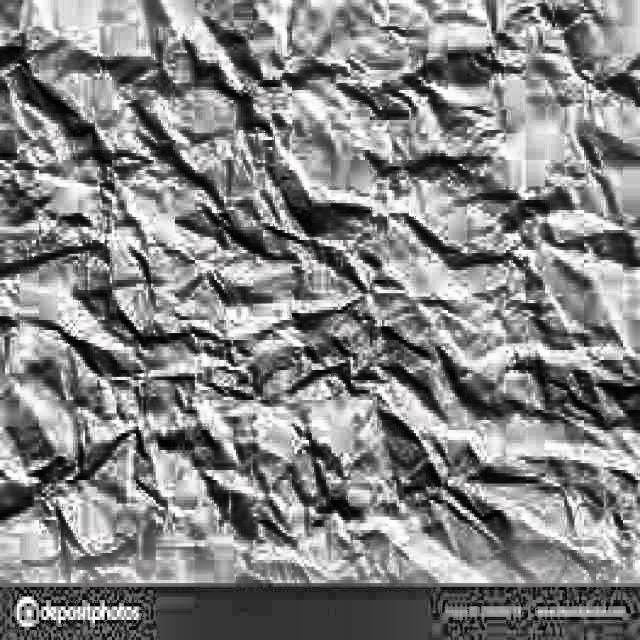Paper: (0, 0, 638, 580)
